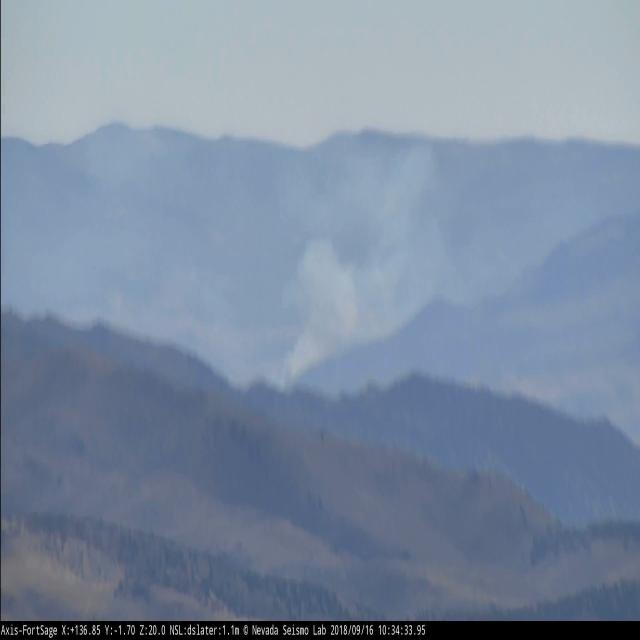smoke: (270, 145, 437, 386)
